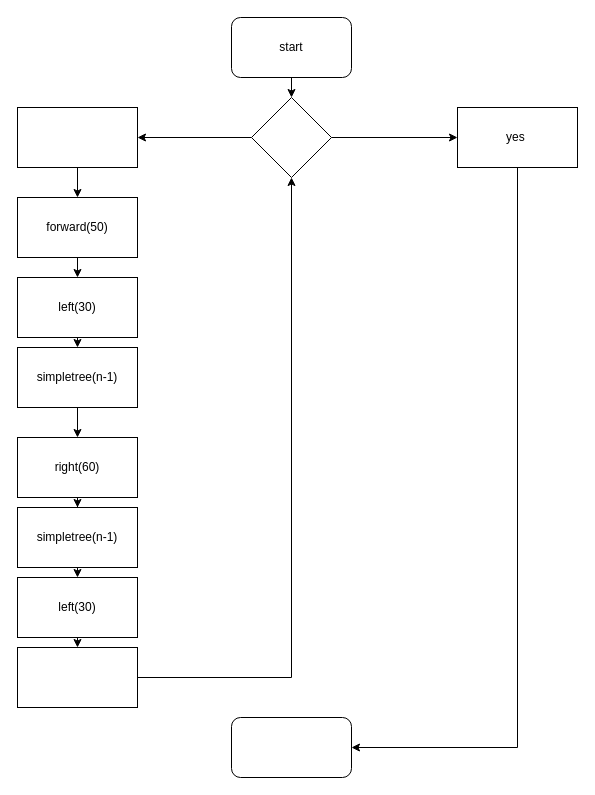
Image size: 595x795. Some labels were removed from this diagram. The centre of each missing label's shape, as x and y in pixels:
backwards(50): (77,677)
end: (291,747)
n==0?: (291,137)
no: (77,137)
